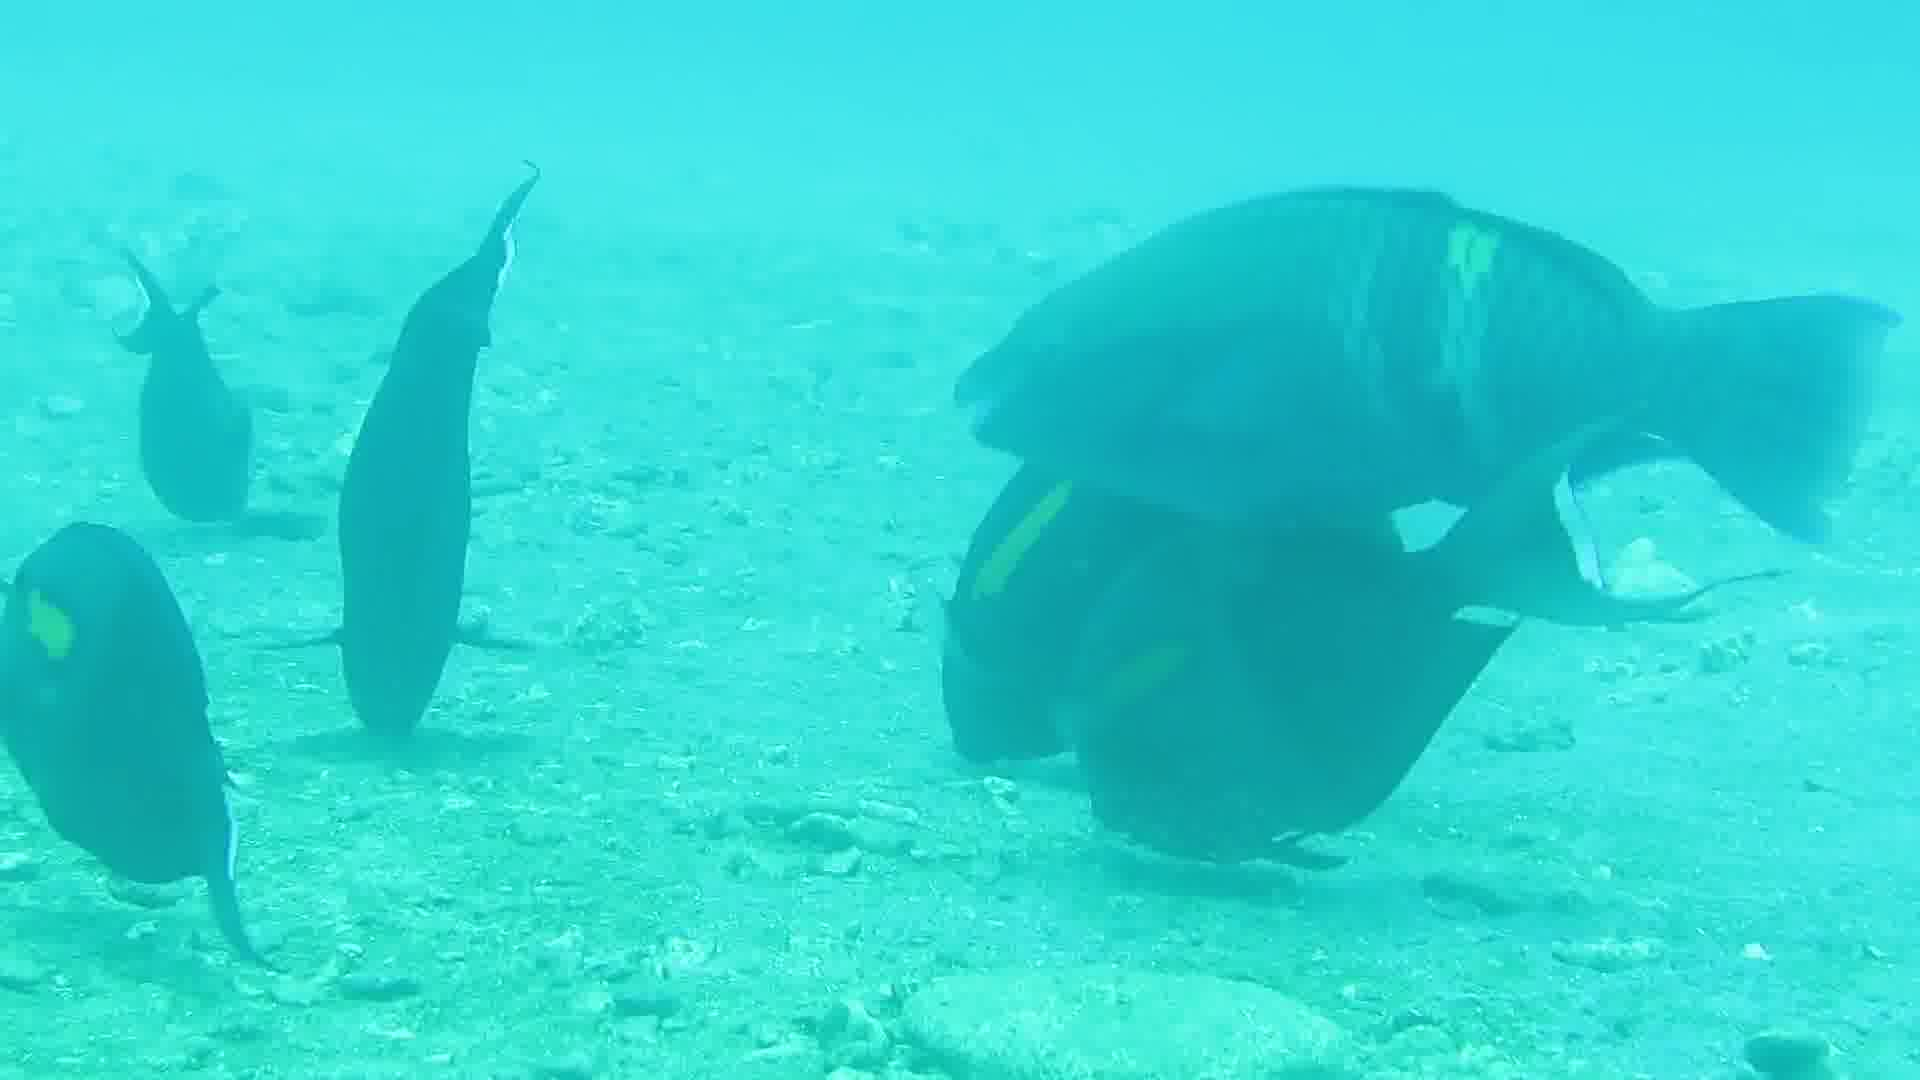Acanthurus olivaceus: (930, 66, 1898, 559), (945, 393, 1606, 887), (311, 161, 613, 789), (94, 78, 330, 616), (1, 476, 237, 1013)
